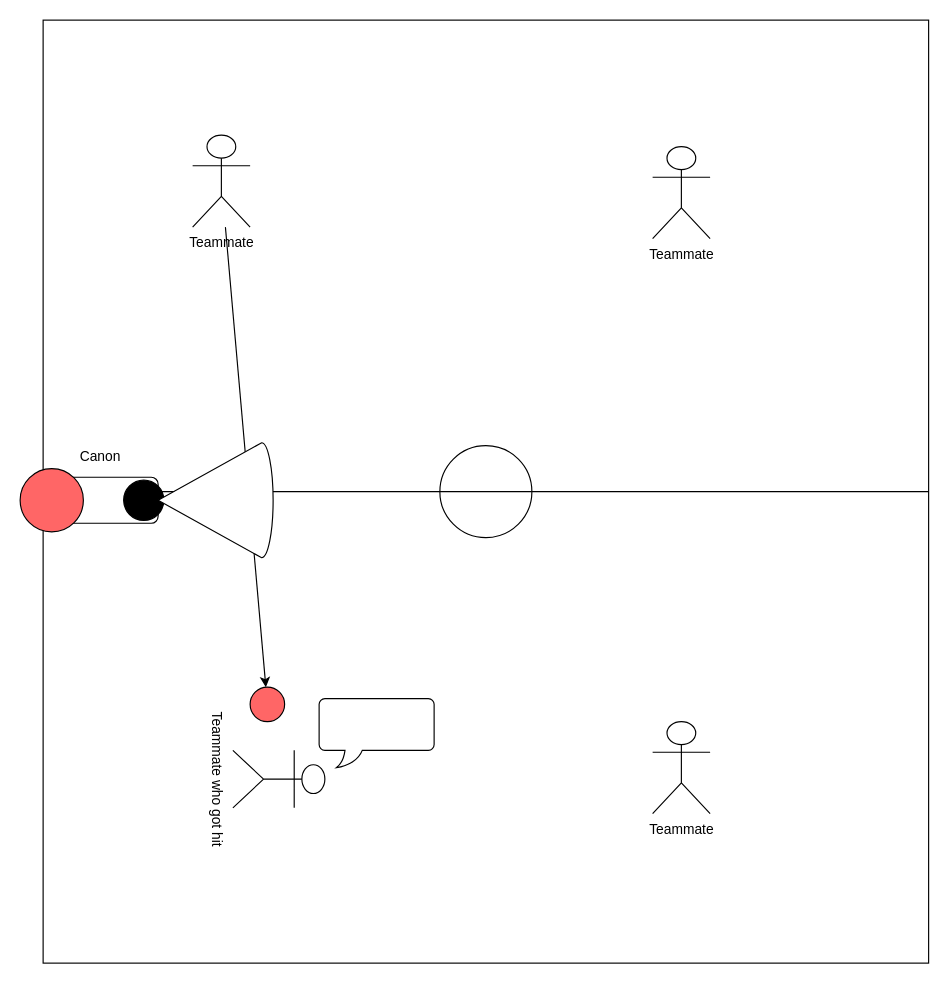
The diagram is 950 pixels wide and 983 high, and some of its shapes have lost their labels. Each missing label, with the centre of its shape:
Randomized Direction: (x=215, y=500)
Revive Me!: (x=376, y=732)
